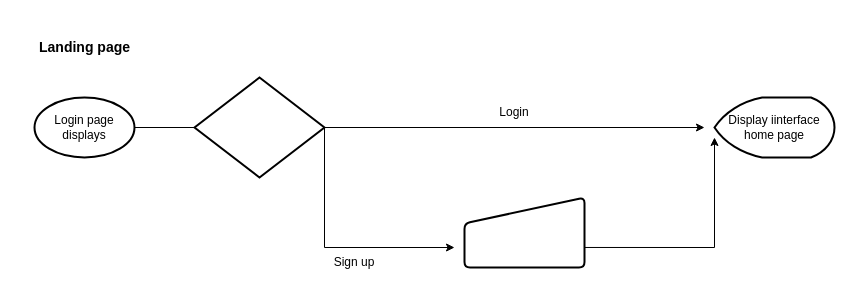
Some shapes in this 853 by 294 pixel diagram are drawn without their labels. The box of each missing label's shape, as (x1, y1, x2, y2) in pixels:
Enter sign up details: (463, 196, 585, 268)
Login or sign up?: (193, 76, 325, 178)
